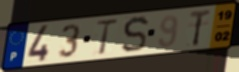3: (57, 23, 81, 59)
4: (25, 24, 51, 64)
9: (157, 14, 182, 49)
S: (120, 15, 150, 55)
T: (94, 18, 120, 57), (188, 8, 212, 48)
